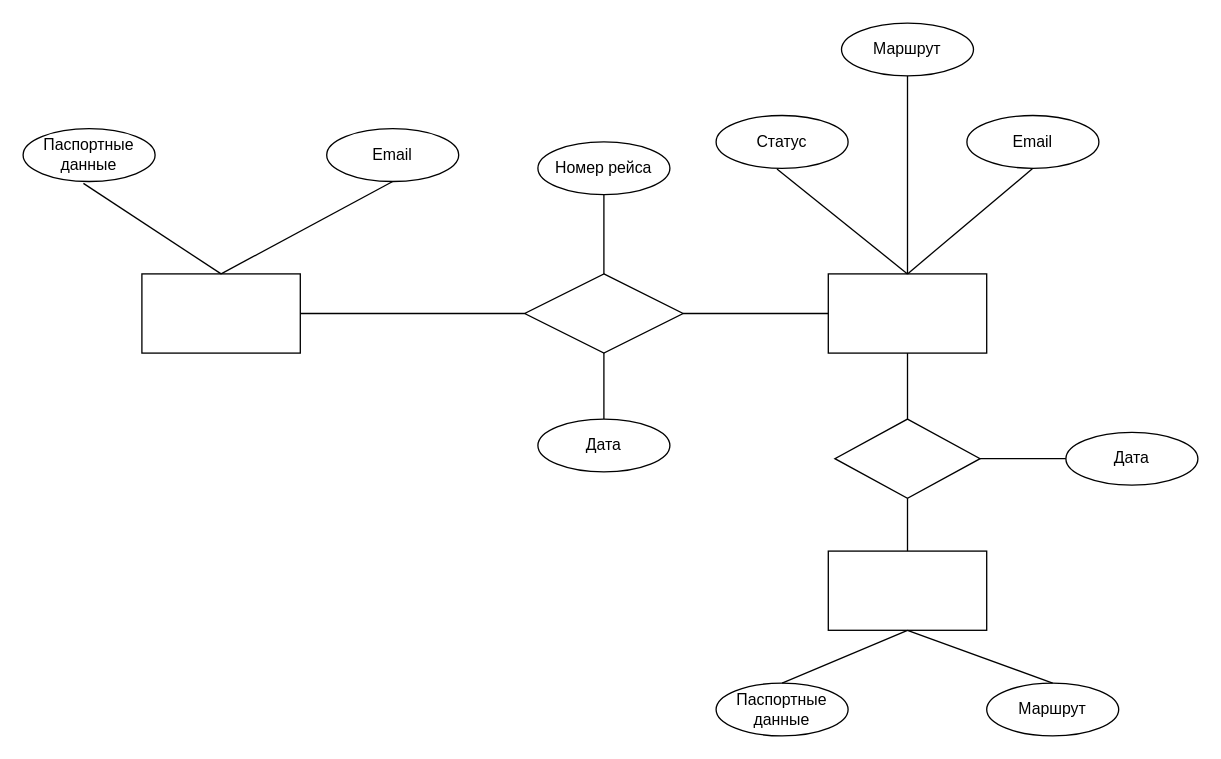
Some shapes in this 1221 by 759 pixel diagram are drawn without their labels. Here are the shapes that lost their labels. From the top down, the box of each, then its label:
(141, 273, 300, 353): Пользователь
(523, 273, 683, 353): Билет
(827, 273, 987, 353): Рейс
(834, 418, 980, 498): Организовывает
(827, 550, 987, 630): Компания
